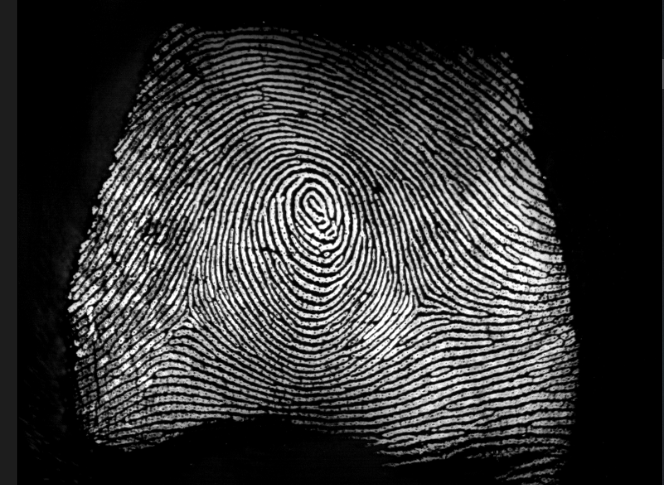deltas: (395, 281, 453, 328), (166, 302, 210, 340)
nucleo: (289, 180, 340, 238)
